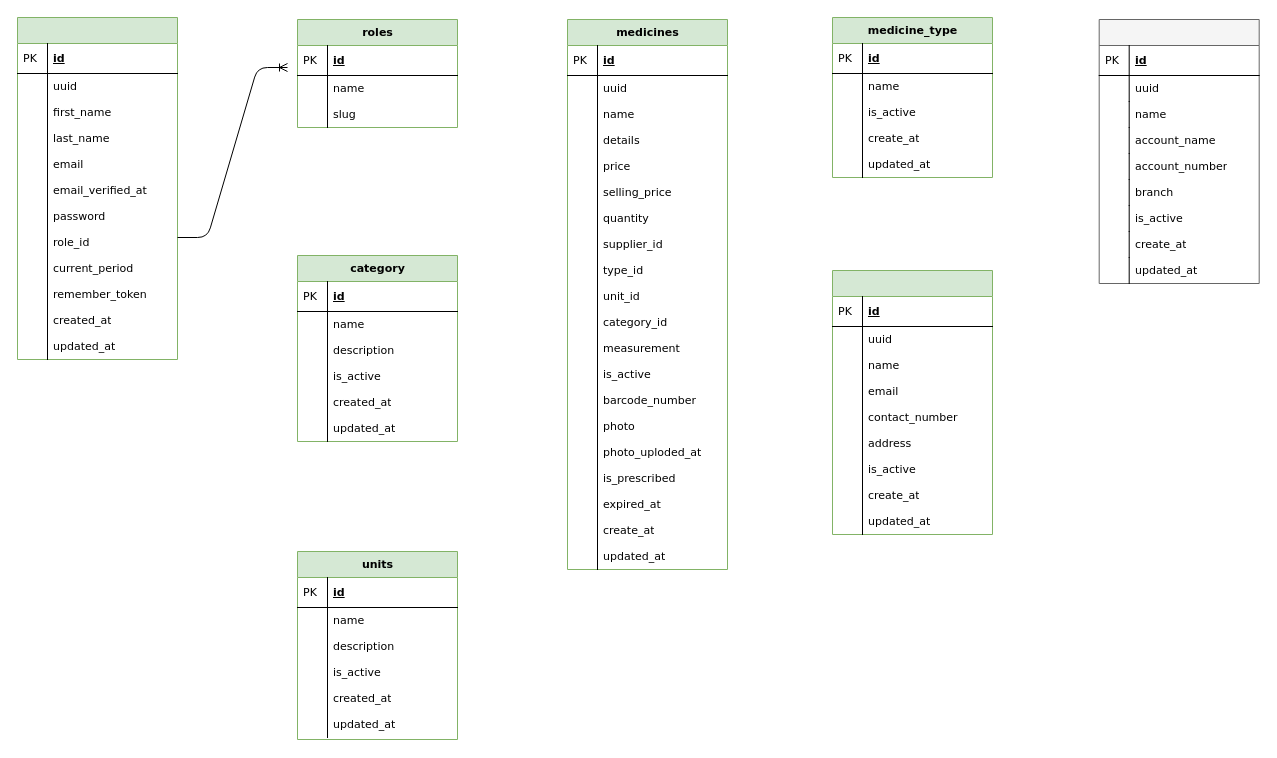
Some shapes in this 1277 by 758 pixel diagram are drawn without their labels. The shapes that lost their labels are listed below. From the top down, each one's box as (x1, y1, x2, y2) in pixels, then its label:
(1098, 18, 1259, 284): banks
(16, 16, 178, 360): users
(832, 270, 992, 534): suppliers
